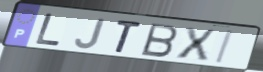B: (139, 22, 180, 59)
I: (213, 29, 236, 66)
J: (73, 17, 107, 50)
L: (34, 12, 63, 47)
T: (114, 18, 144, 55)
X: (174, 26, 217, 62)
